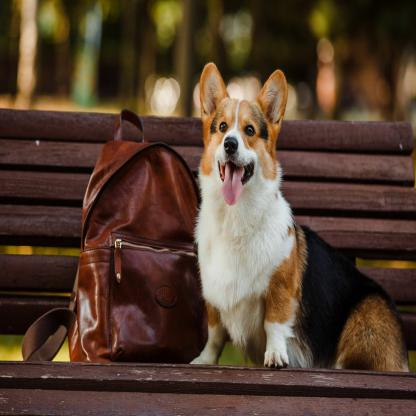Korgi: (192, 62, 412, 374)
